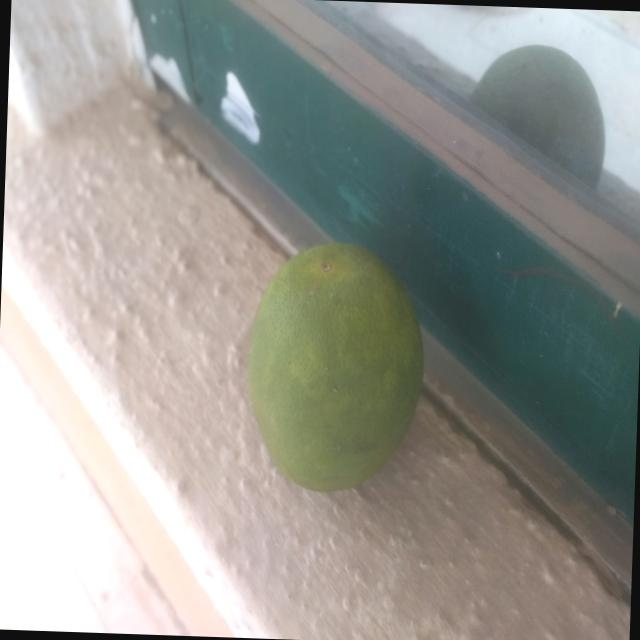agrume: (202, 226, 447, 517)
